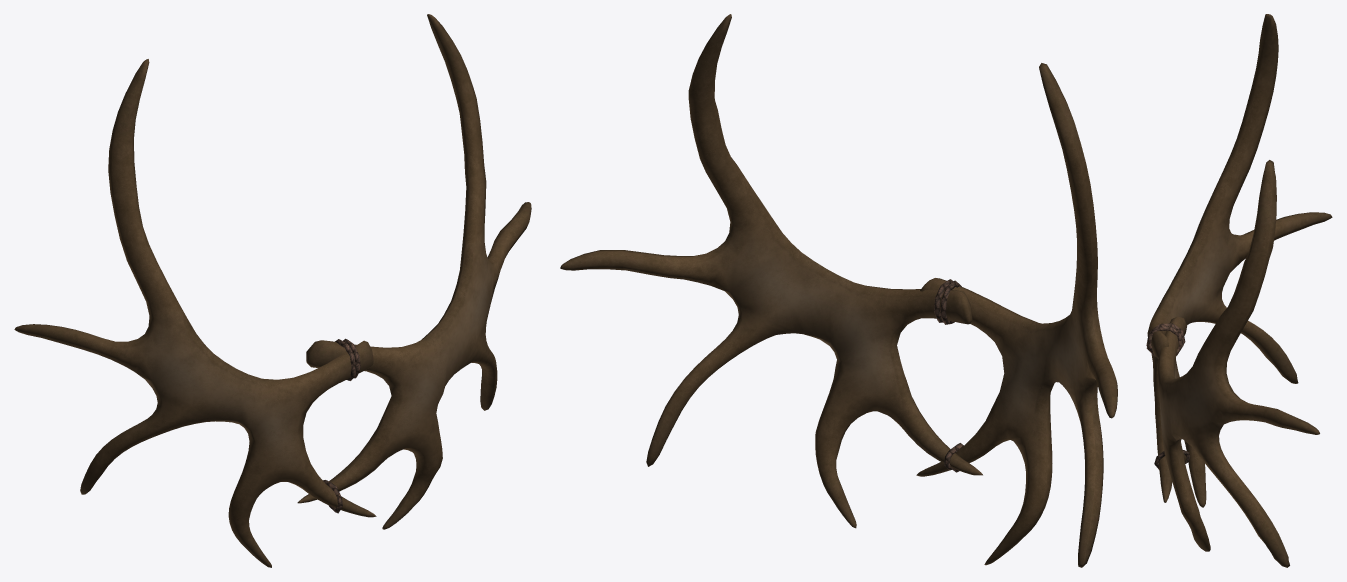
The model's file is horn.FBX.
3 renders of one model, left to right at view 1: azimuth 30°, elevation 25°; view 2: azimuth 150°, elevation 25°; view 3: azimuth 270°, elevation 25°, orthographic. The views are drawn at different scales.
Visible parts, largest first — view 1: horn; view 2: horn; view 3: horn.
Part boxes in pixels (x1,y1,x2,y2): horn: (14,14,531,567); horn: (560,14,1117,567); horn: (1146,14,1332,567).
Bounding box in the file's own units: 1.35 × 1.27 × 0.4724.
